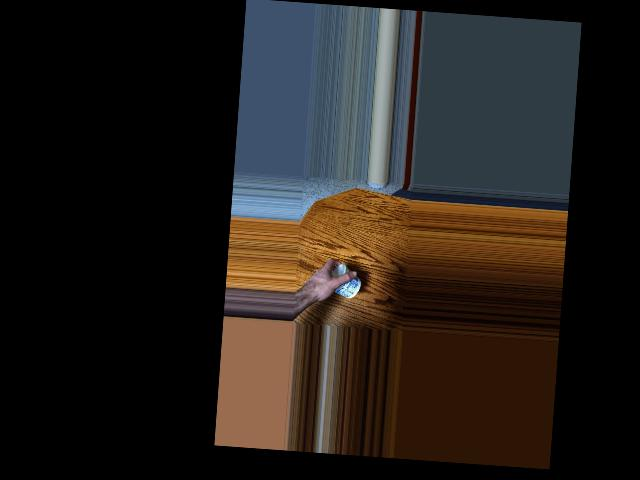cotage: (330, 261, 363, 302)
